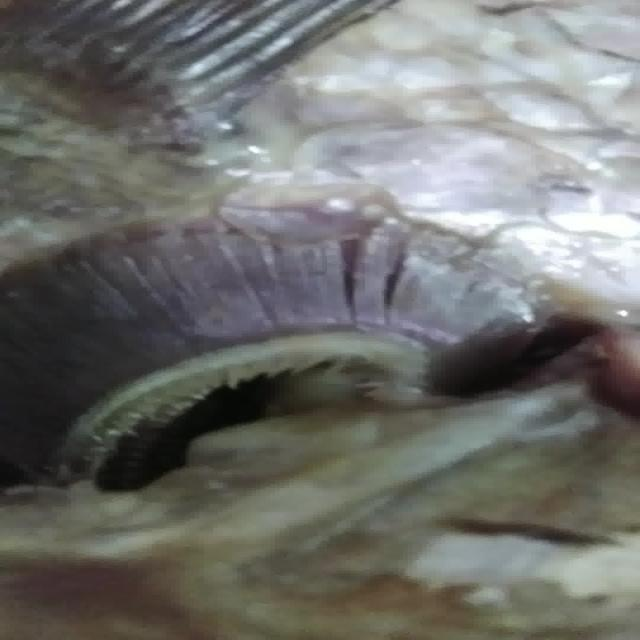Non-Fresh: (12, 200, 553, 478)
